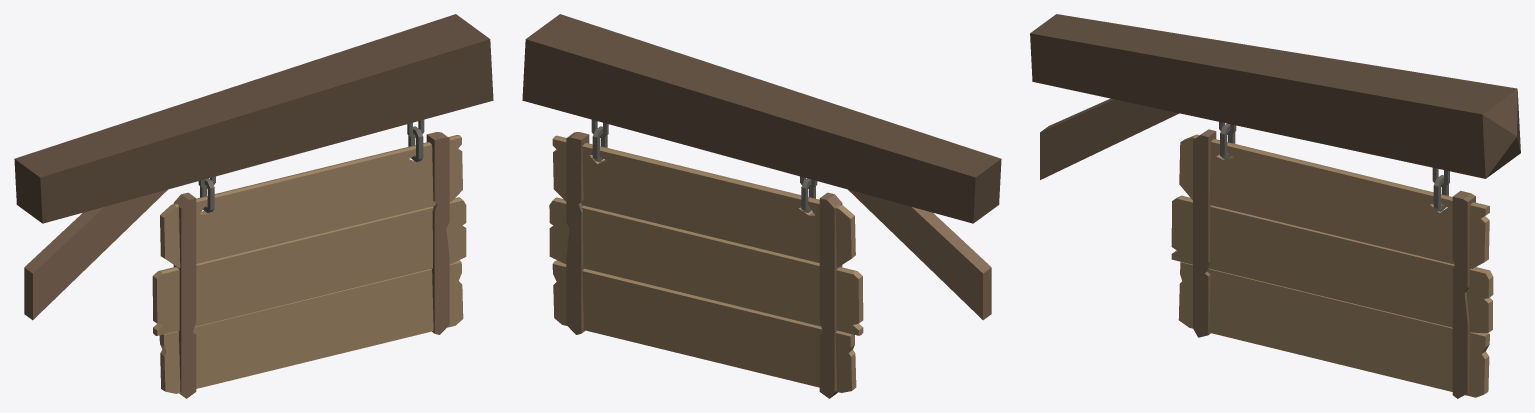
Rendered from Wall_Prop_Sign_1.obj.
The picture shows the model from 3 angles, left to right: view 1: azimuth 30°, elevation 25°; view 2: azimuth 150°, elevation 25°; view 3: azimuth 330°, elevation 25°; orthographic projection. The views are drawn at different scales.
Visible parts, largest first — view 1: object7, object8, object13, object11, object10, object12, object4; view 2: object7, object8, object13, object11, object10, object12, object4; view 3: object7, object8, object13, object11, object10, object4, object12.
Boxes of the visible parts, x1=… form: object7: x1=14, y1=14, x2=493, y2=223; object8: x1=152, y1=197, x2=466, y2=335; object13: x1=160, y1=135, x2=462, y2=268; object11: x1=159, y1=260, x2=463, y2=393; object10: x1=24, y1=189, x2=167, y2=320; object12: x1=173, y1=192, x2=196, y2=398; object4: x1=426, y1=132, x2=449, y2=334; object7: x1=522, y1=14, x2=1001, y2=223; object8: x1=549, y1=197, x2=863, y2=335; object13: x1=552, y1=135, x2=855, y2=267; object11: x1=552, y1=260, x2=856, y2=392; object10: x1=848, y1=189, x2=991, y2=320; object12: x1=819, y1=192, x2=842, y2=398; object4: x1=566, y1=132, x2=589, y2=334; object7: x1=1030, y1=14, x2=1520, y2=178; object8: x1=1171, y1=195, x2=1493, y2=332; object13: x1=1179, y1=134, x2=1489, y2=268; object11: x1=1178, y1=262, x2=1489, y2=397; object10: x1=1040, y1=98, x2=1179, y2=179; object4: x1=1452, y1=190, x2=1475, y2=398; object12: x1=1193, y1=129, x2=1216, y2=337.
Size of the model in its own units: 1.55 by 0.9579 by 0.2.
